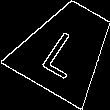L_NE: (38, 19, 94, 78)
